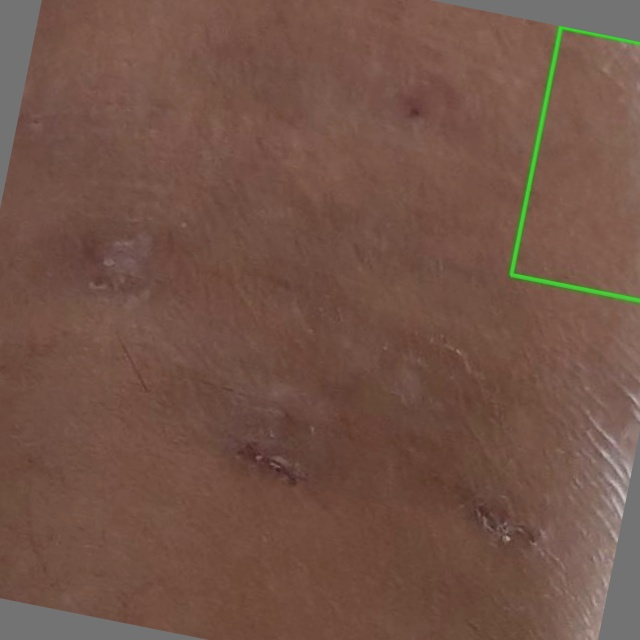Contact Dermatitis: (511, 27, 639, 300)
